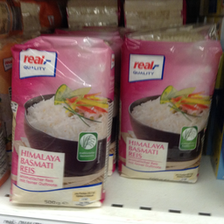rice: (10, 38, 115, 209), (116, 31, 221, 182)
